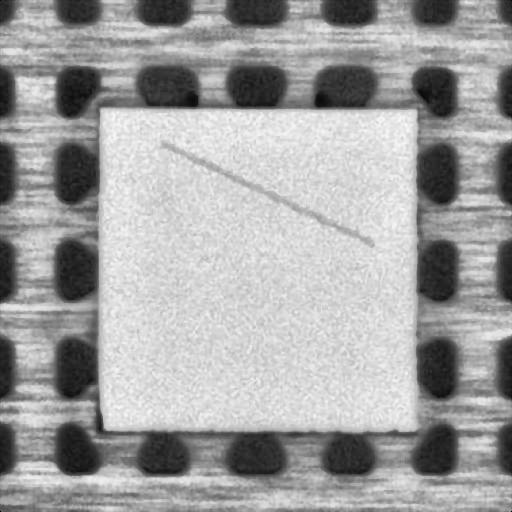DIE_CRACK: (165, 141, 377, 238)
